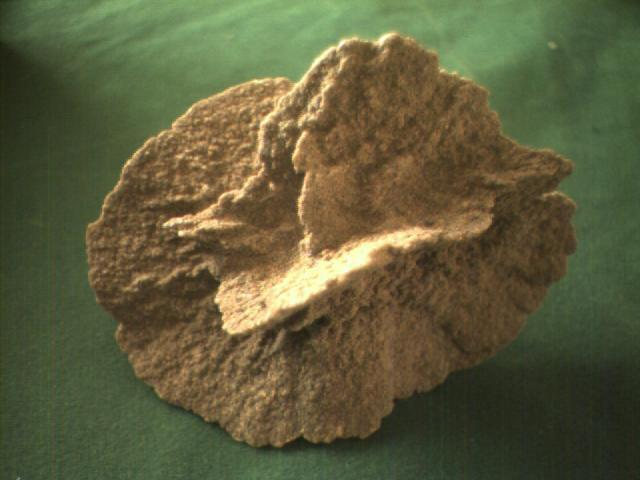gypsum: (87, 33, 576, 447)
